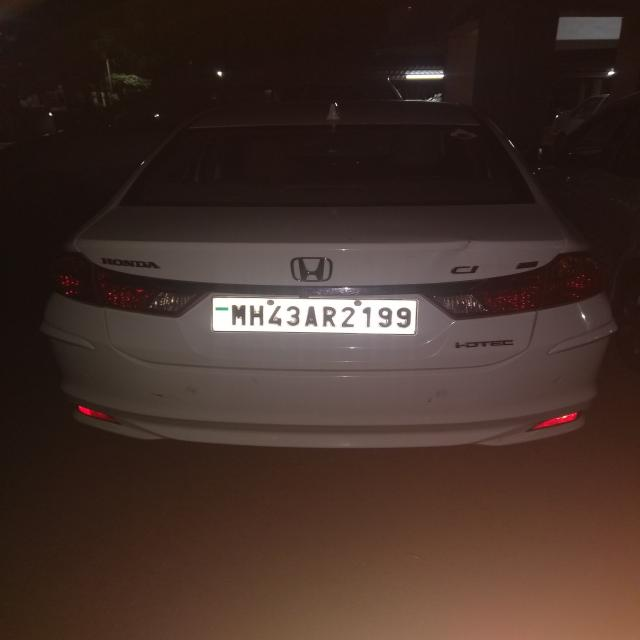Number-Plate: (211, 296, 422, 336)
